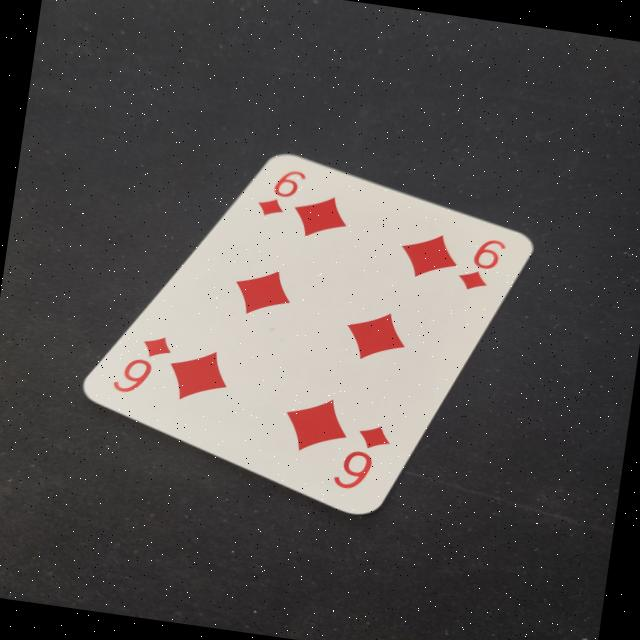6d: (323, 415, 399, 499), (105, 325, 178, 405), (248, 162, 314, 228), (454, 232, 512, 298)
